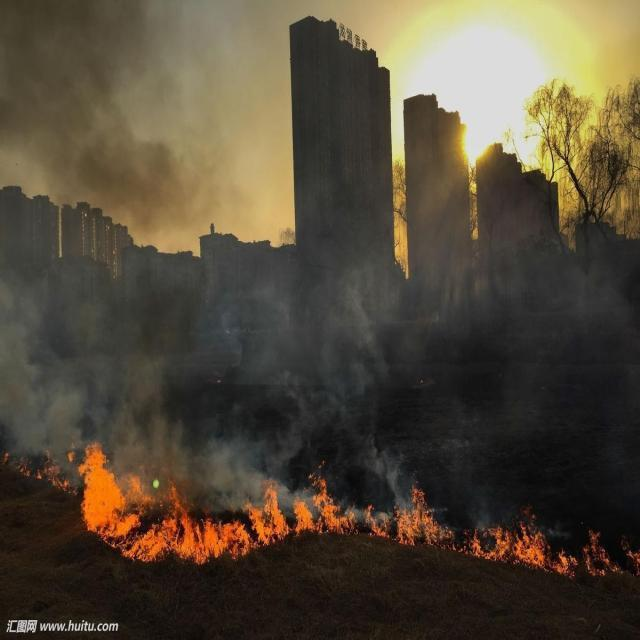Fire: (3, 438, 640, 582)
Smoke: (0, 0, 640, 535)
